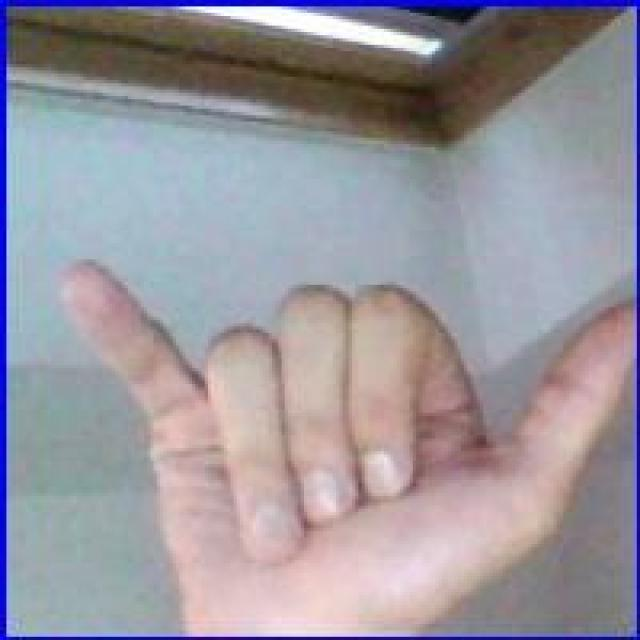Y: (41, 243, 640, 640)
